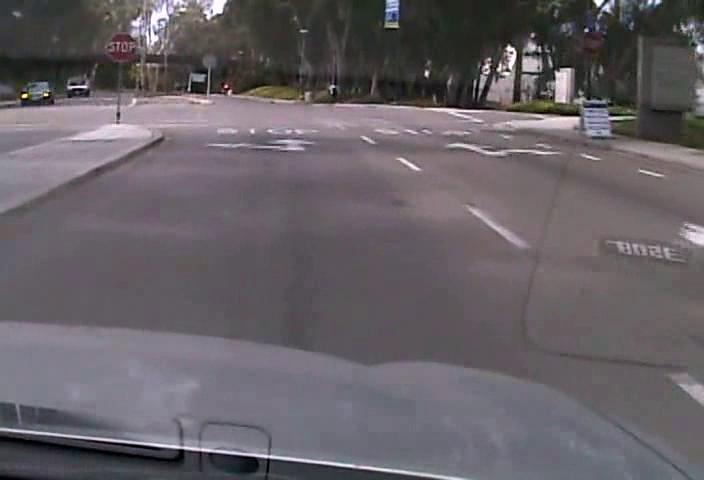stop: (104, 31, 137, 63)
